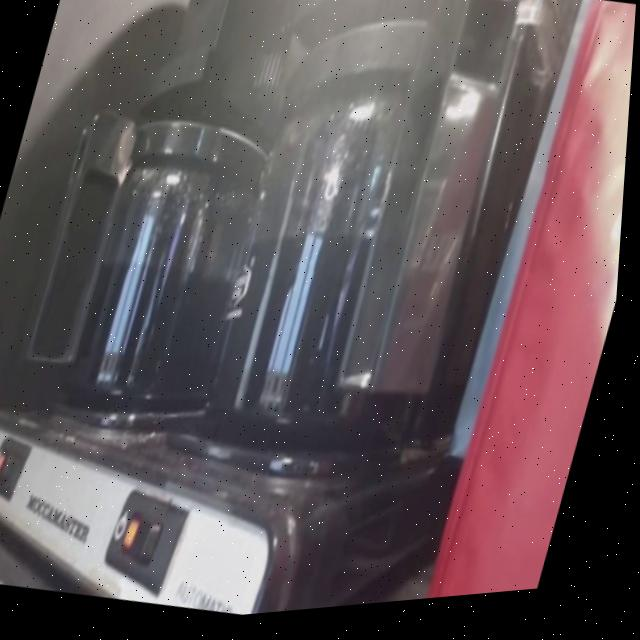coffee: (175, 0, 536, 500), (46, 89, 305, 458)
